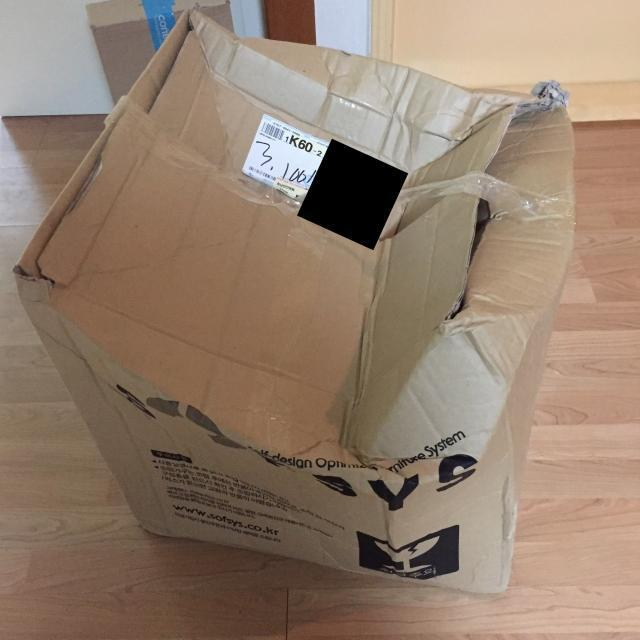damaged: (437, 195, 496, 334)
